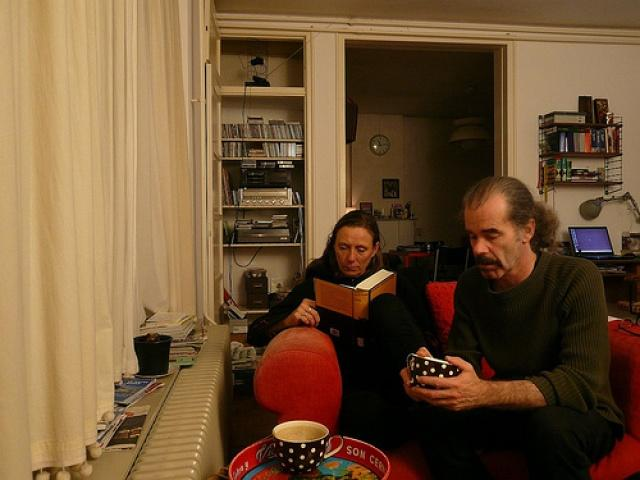Rak: (216, 32, 309, 316)
